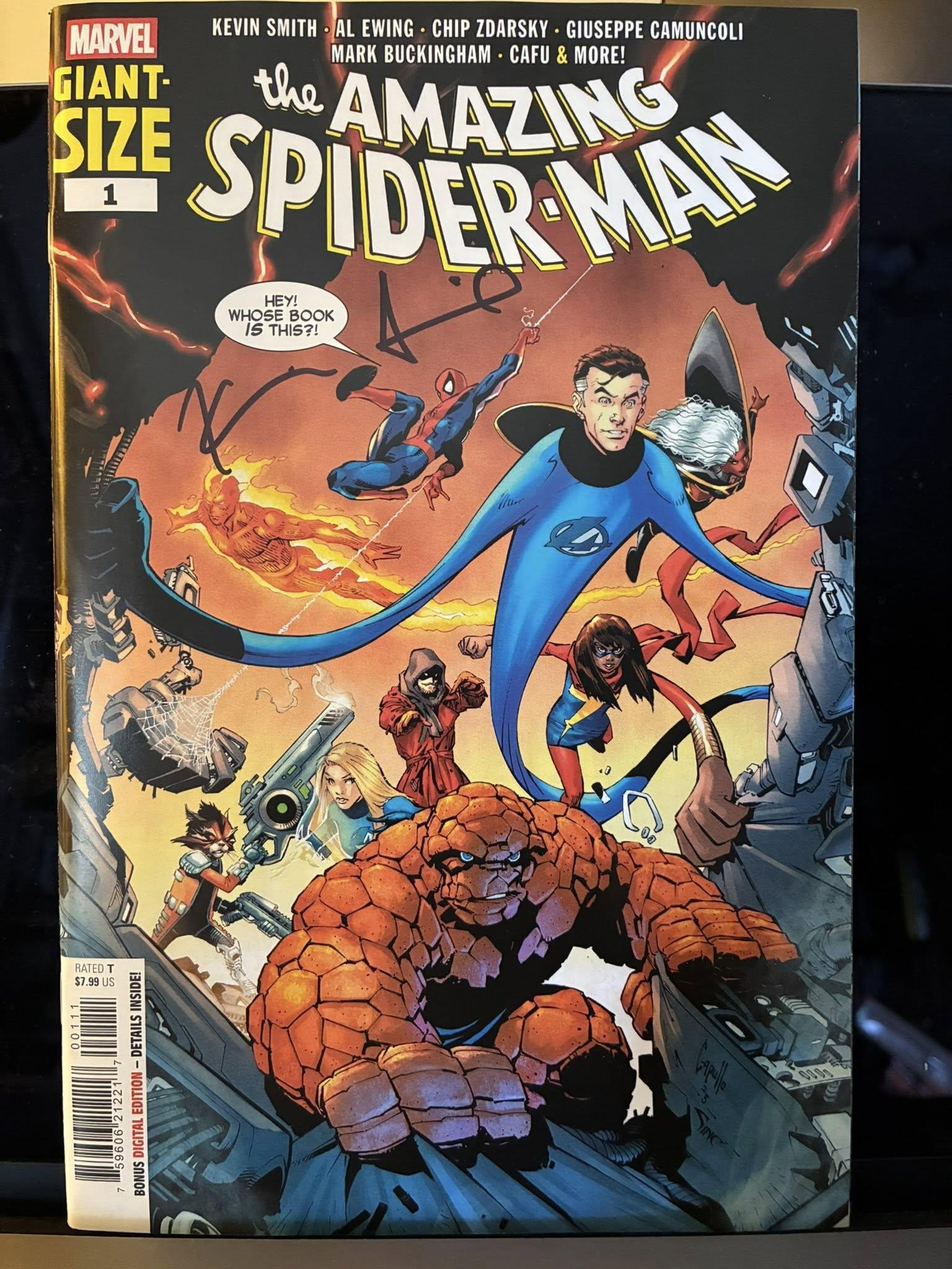comic: (50, 3, 857, 1235)
